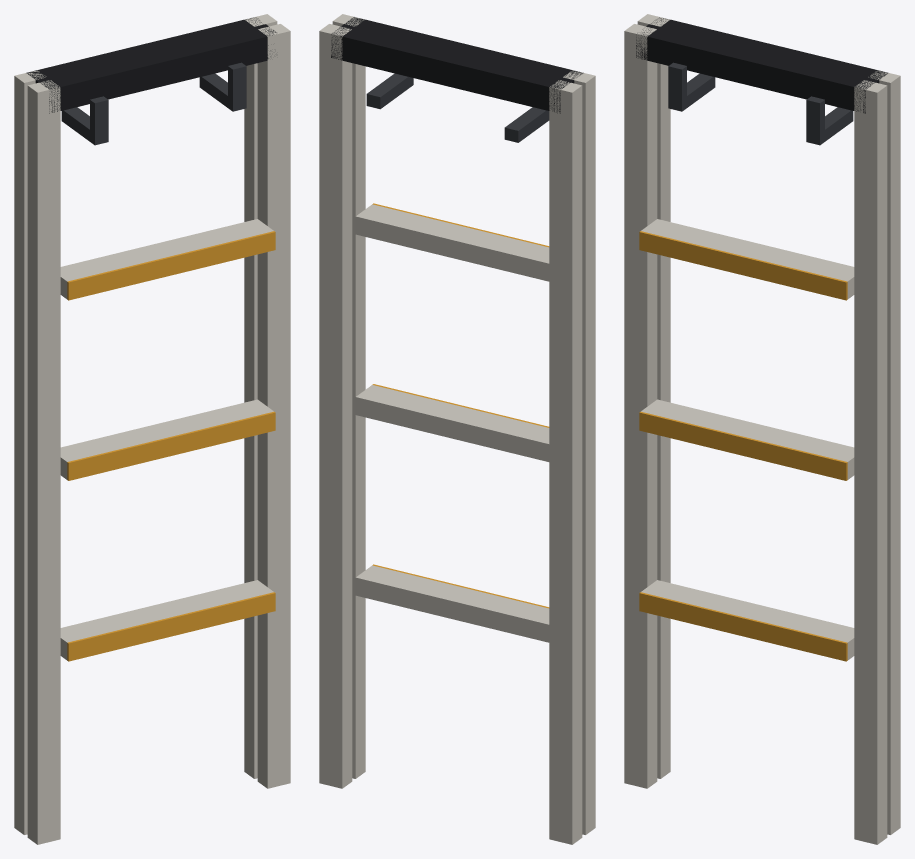
Rendered from dc_ladder.glb.
The picture shows the model from 3 angles, left to right: view 1: azimuth 30°, elevation 25°; view 2: azimuth 150°, elevation 25°; view 3: azimuth 330°, elevation 25°; orthographic projection.
Visible parts, largest first — view 1: dc_ladder; view 2: dc_ladder; view 3: dc_ladder.
Boxes of the visible parts, box(x1,y1,x2,y2) form: dc_ladder: box(14, 14, 290, 844); dc_ladder: box(319, 14, 595, 844); dc_ladder: box(624, 14, 900, 844).
Bounding box in the file's own units: 0.44 × 1.25 × 0.104.
